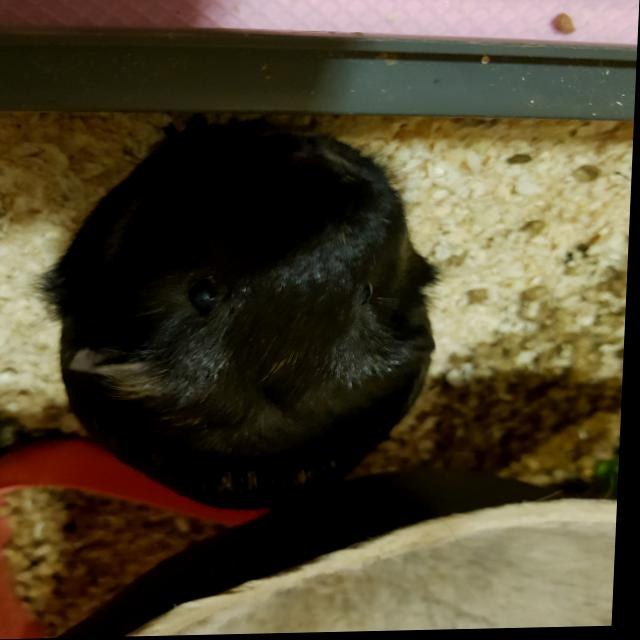guinea pig: (42, 108, 449, 517)
